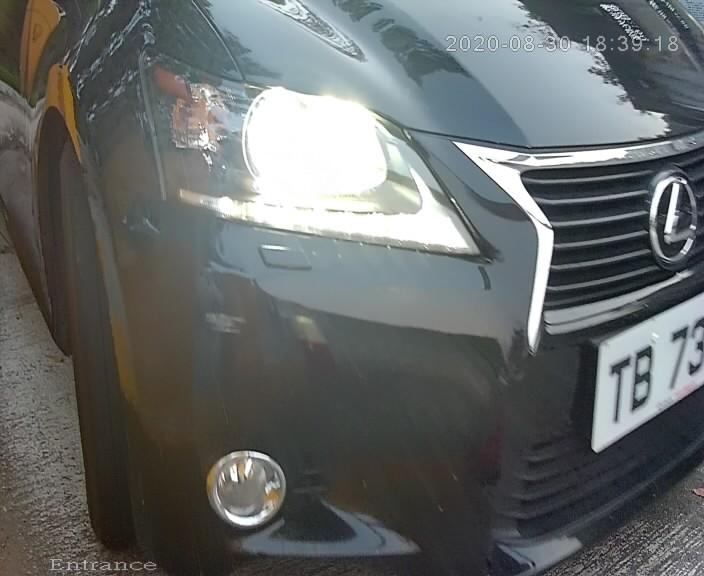License Plate: (585, 281, 692, 440)
